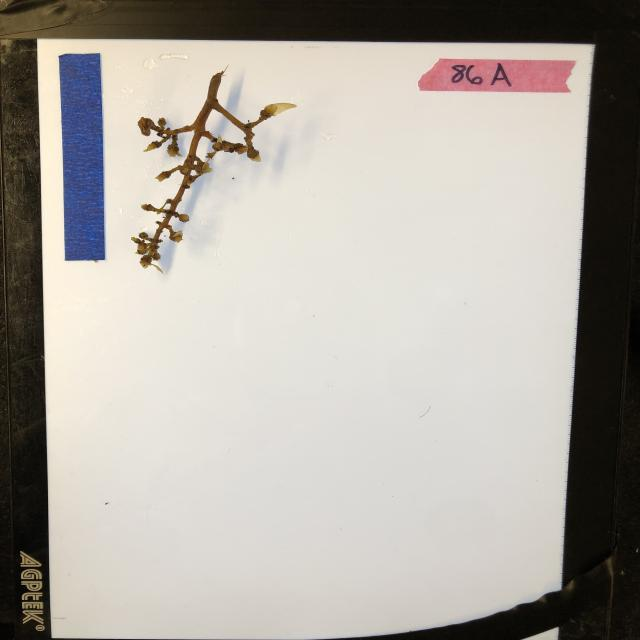index: (418, 57, 576, 93)
measure_label: (59, 52, 108, 262)
rachis_cluster: (130, 70, 298, 273)
